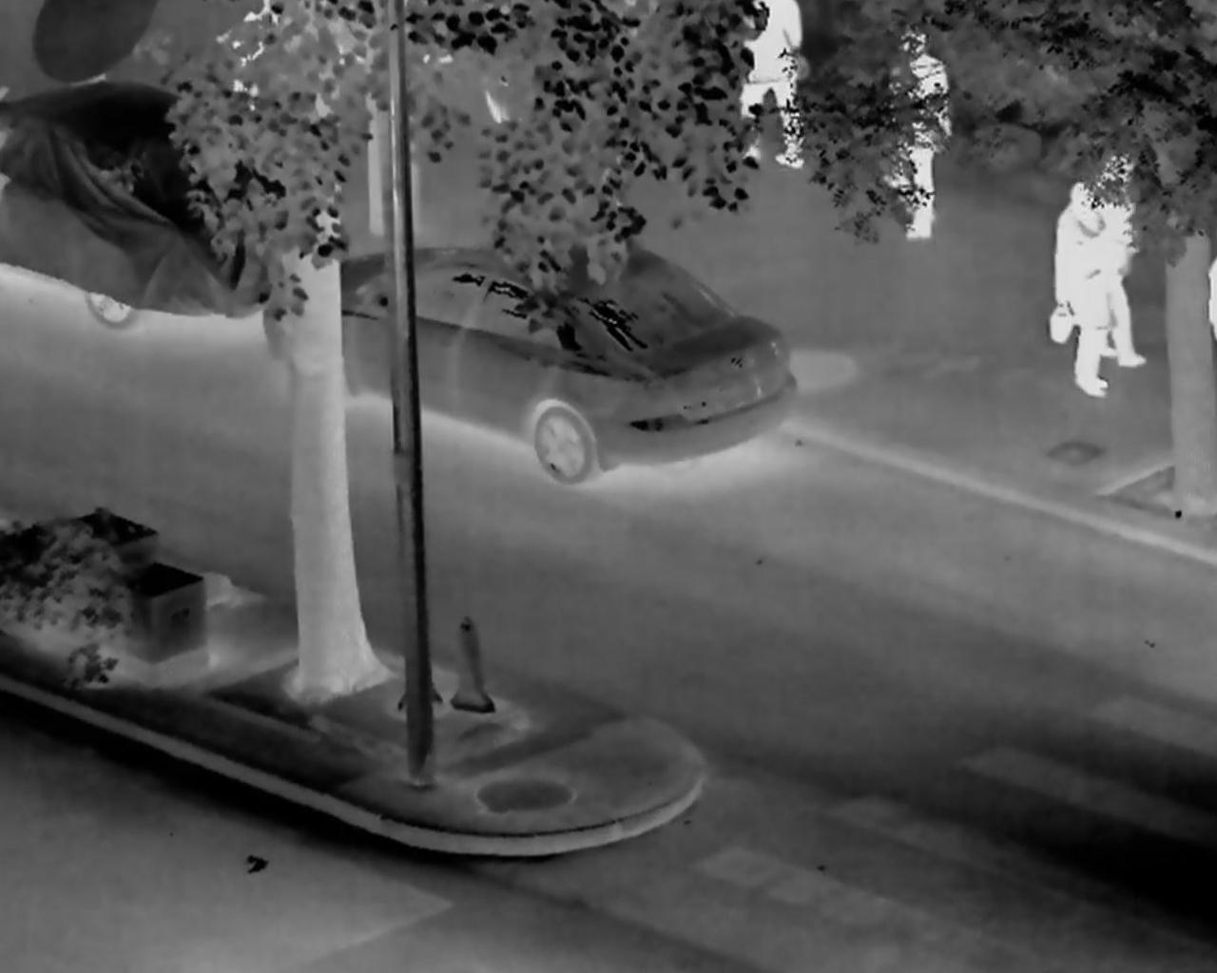person: (876, 32, 953, 241), (1049, 180, 1113, 399), (1086, 155, 1149, 369)
